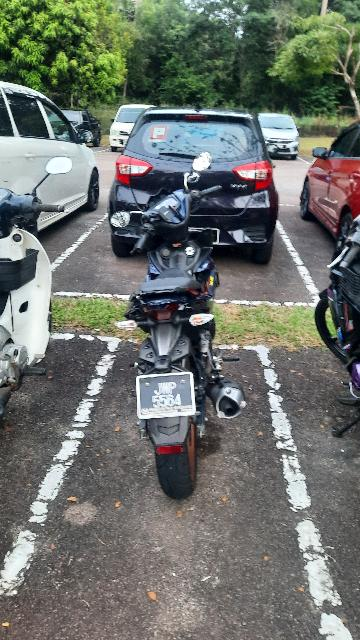License_Plate: (132, 372, 199, 425)
motorcycle: (106, 143, 256, 501)
